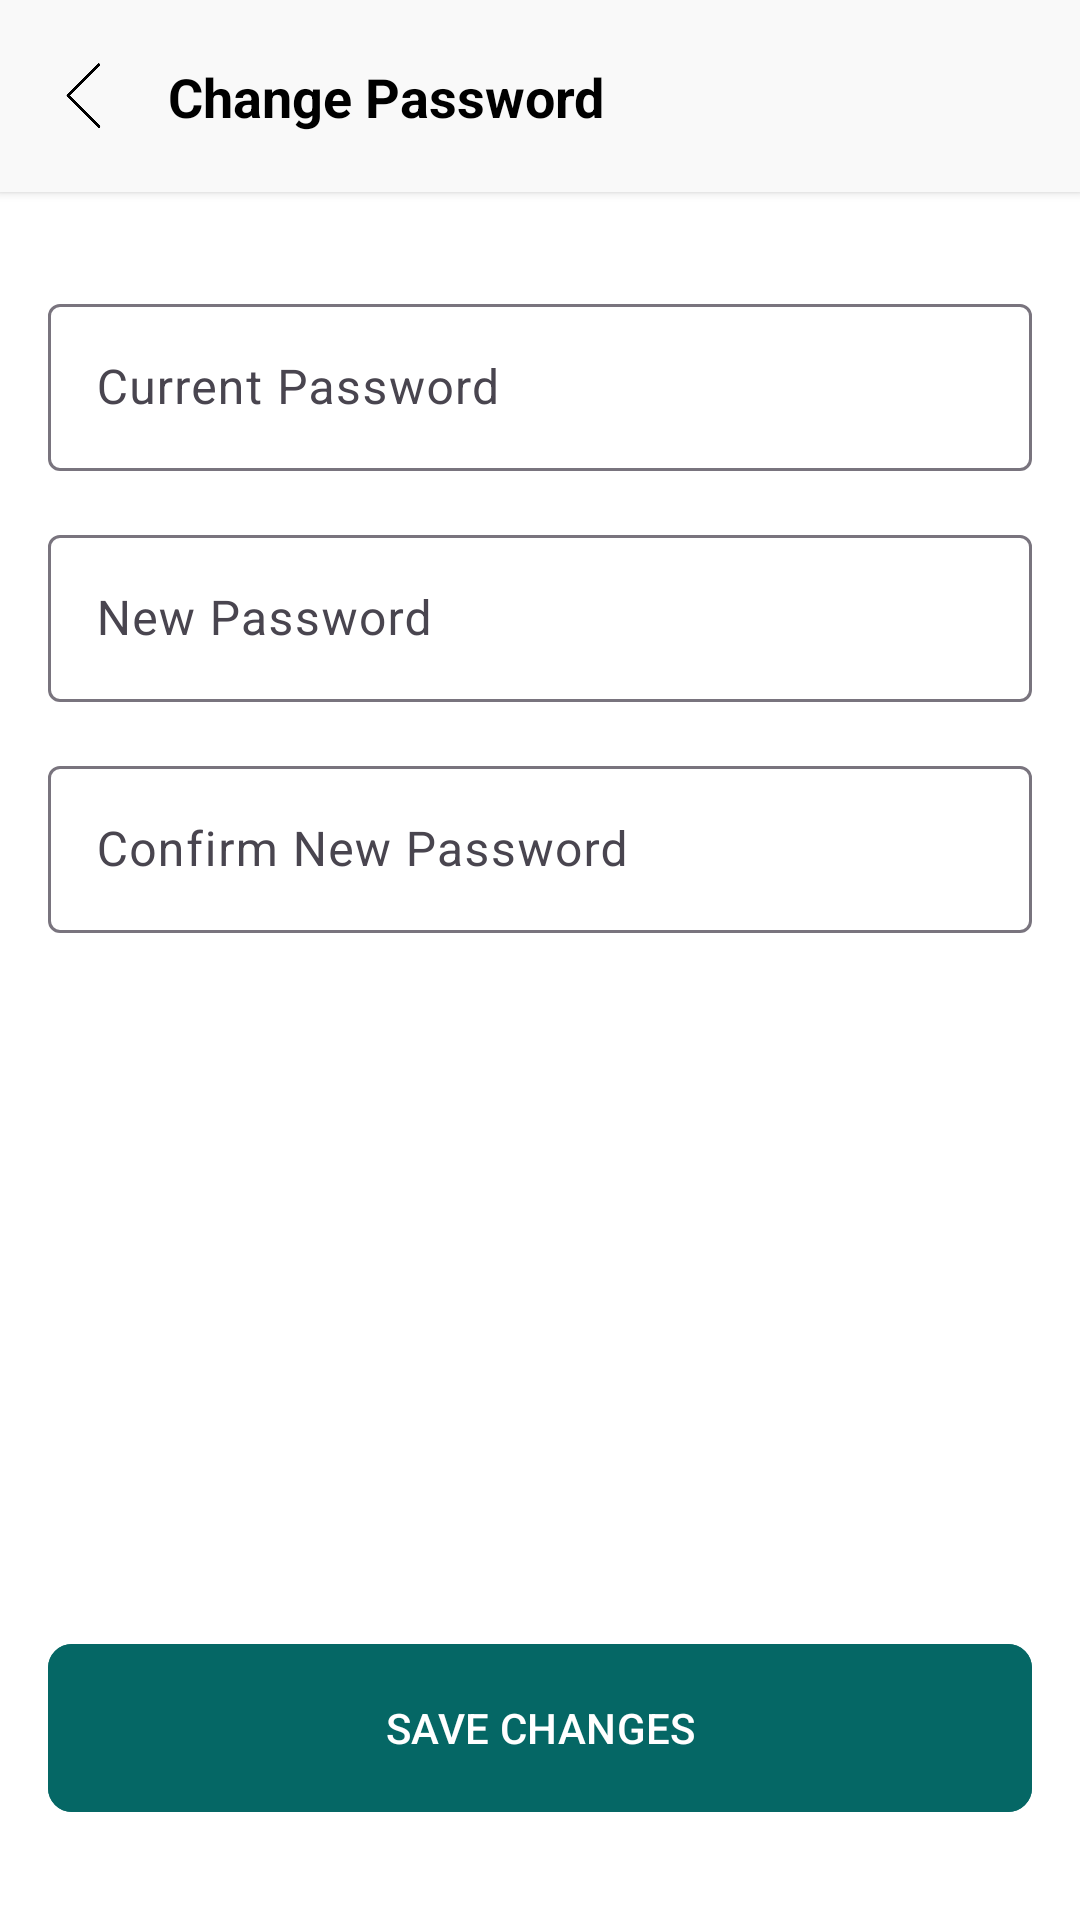

Icon click points for this 1080w x 1920h phone screenshot, format (x,y):
Back: (83,95)
